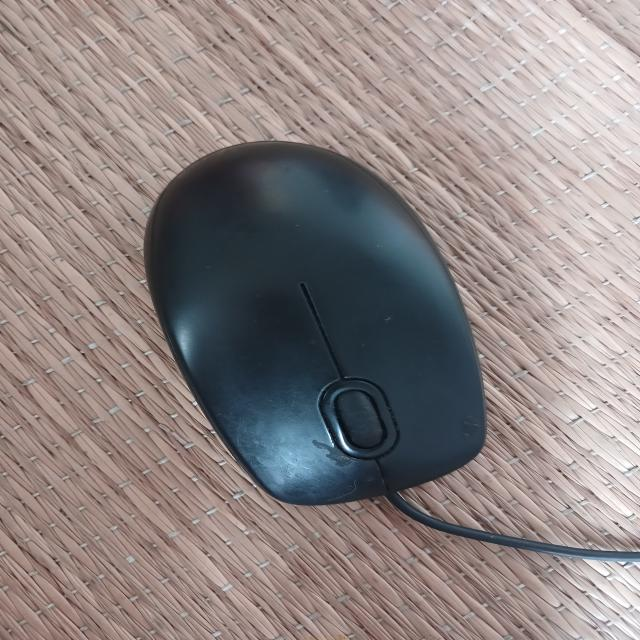mouse: (140, 135, 510, 514)
